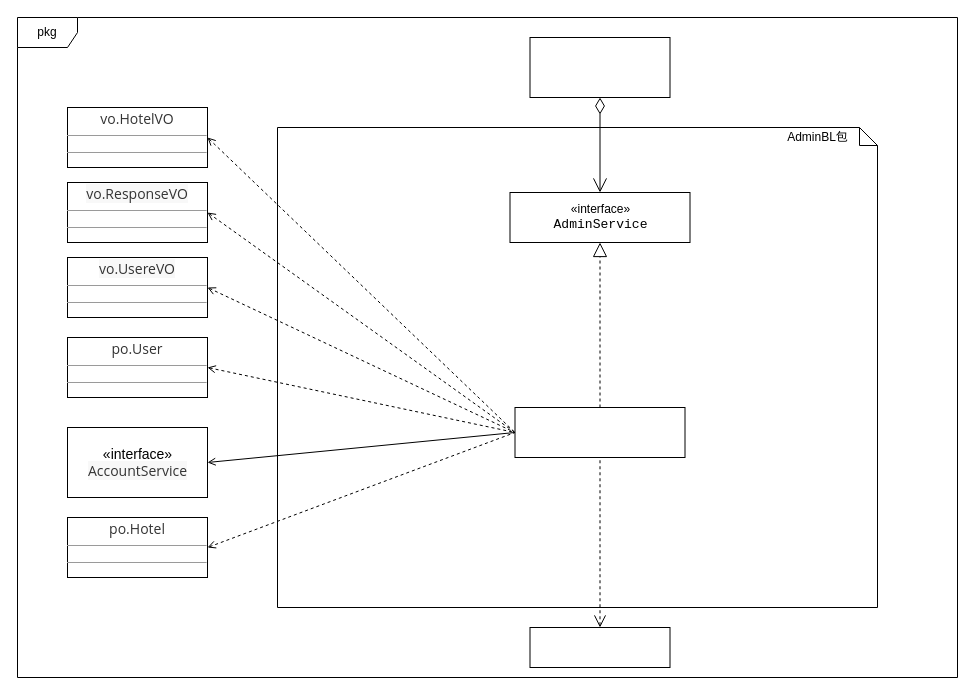
Image size: 975x695. Some labels were removed from this diagram. Each missing label, with the centre of its shape:
AdminController: point (599, 67)
AdminMapper: point (599, 647)
AdminServiceImpl: point (599, 432)
